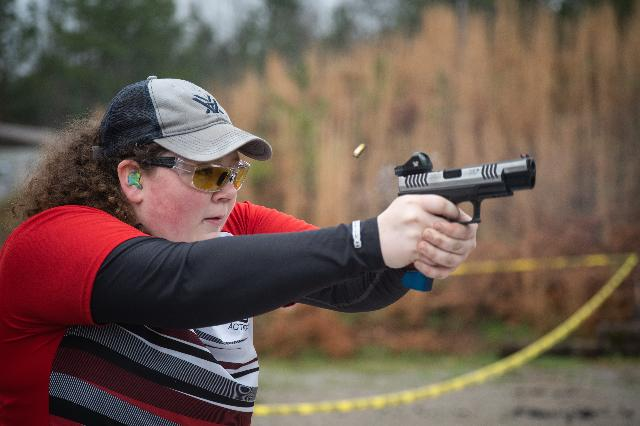handgun: (389, 148, 538, 296)
